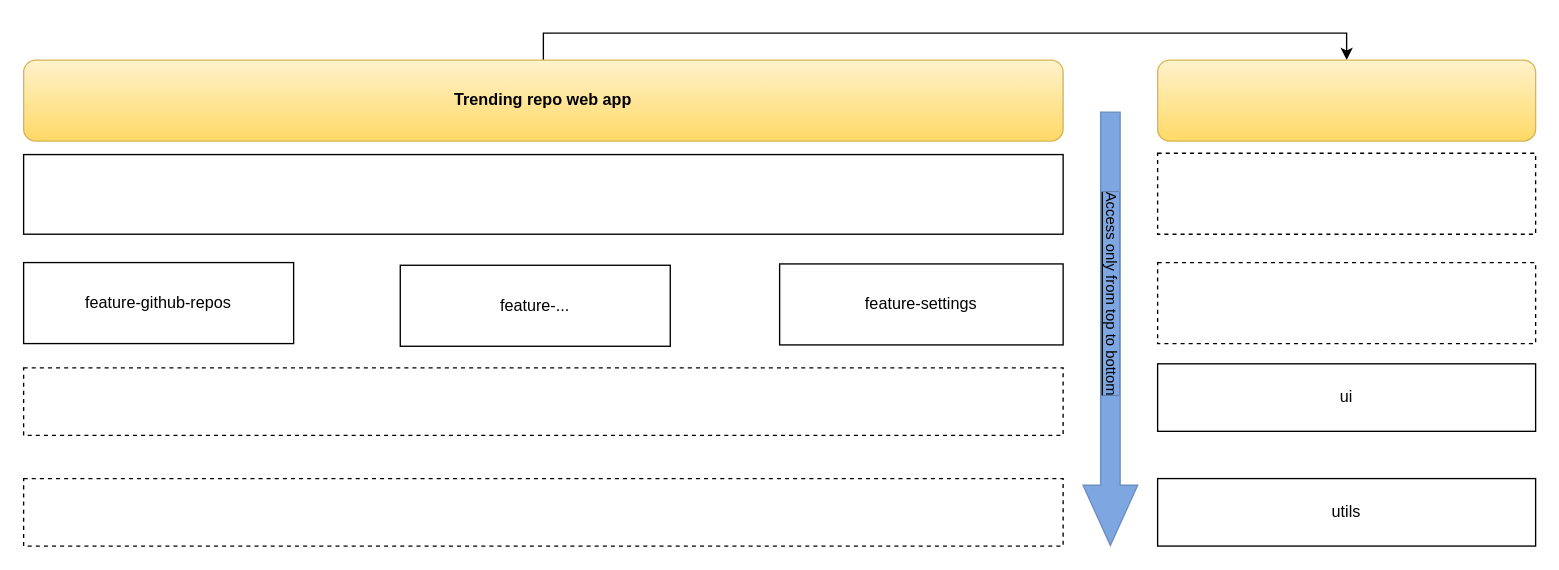
Some shapes in this 1559 by 570 pixel diagram are drawn without their labels. The centre of each missing label's shape, as x and y in pixels:
Shared: the point at 1346,100
Shell: the point at 542,193
